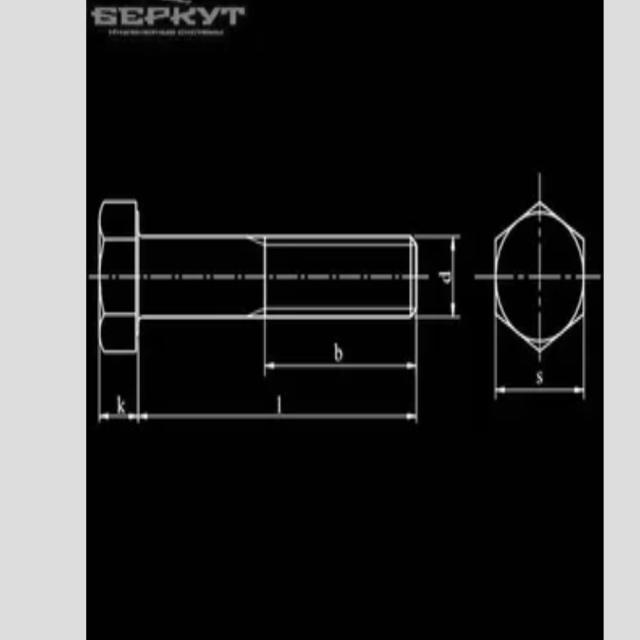marking_line: (93, 354, 425, 428), (132, 357, 421, 425), (259, 321, 422, 384), (493, 357, 590, 400), (419, 234, 462, 321), (93, 355, 147, 423), (488, 316, 507, 400), (578, 315, 590, 400)
